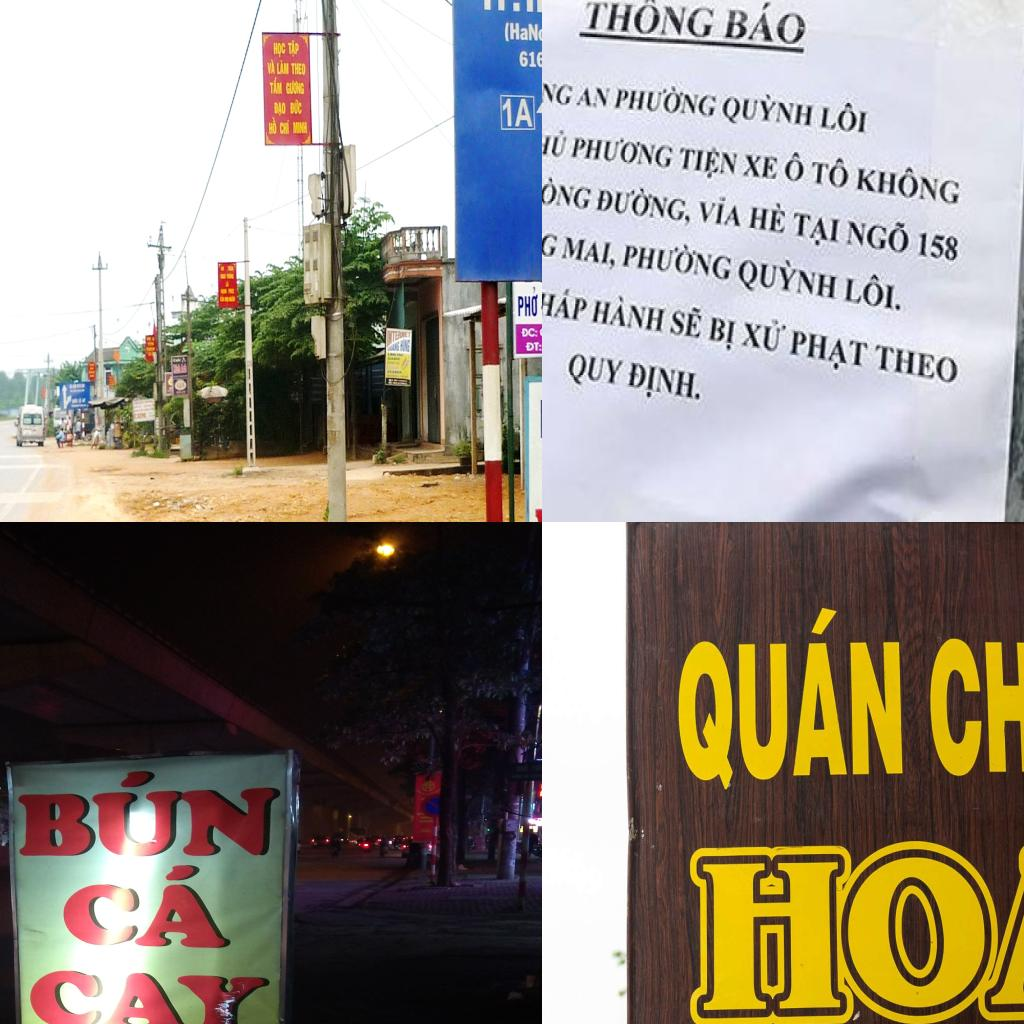text: (678, 607, 904, 792), (15, 763, 285, 862), (58, 862, 237, 954), (26, 964, 277, 1024), (927, 638, 1024, 777), (580, 0, 719, 45), (731, 253, 840, 309), (618, 237, 736, 287), (852, 161, 966, 211), (713, 0, 815, 55), (565, 128, 679, 174), (785, 324, 872, 384), (715, 86, 818, 135), (872, 340, 963, 394), (611, 80, 721, 124), (591, 184, 694, 230), (588, 287, 670, 338), (838, 265, 906, 318), (840, 214, 914, 262), (565, 345, 631, 395), (674, 142, 744, 187), (557, 230, 619, 277), (787, 204, 844, 252), (814, 98, 874, 143), (736, 312, 792, 360), (542, 170, 595, 217), (542, 283, 592, 329), (693, 189, 745, 233), (914, 223, 963, 268), (807, 152, 853, 199), (746, 196, 792, 238), (667, 299, 708, 345), (739, 148, 781, 186), (703, 312, 739, 354), (542, 71, 579, 110), (572, 84, 614, 113), (542, 124, 571, 165), (780, 146, 808, 188), (502, 97, 534, 129), (542, 217, 563, 263), (503, 20, 542, 43), (517, 285, 542, 318), (477, 0, 521, 13), (386, 328, 412, 348), (518, 48, 542, 69), (284, 80, 306, 96), (288, 98, 304, 116), (269, 76, 283, 96), (292, 120, 308, 136), (290, 61, 307, 76), (276, 59, 290, 76), (520, 326, 538, 339), (287, 40, 300, 58), (272, 42, 286, 58), (525, 340, 542, 353), (274, 101, 287, 117), (268, 116, 278, 136), (279, 118, 290, 136), (266, 58, 276, 76), (387, 340, 400, 353), (400, 338, 410, 354), (133, 412, 148, 420), (176, 380, 186, 390), (538, 327, 542, 339)
